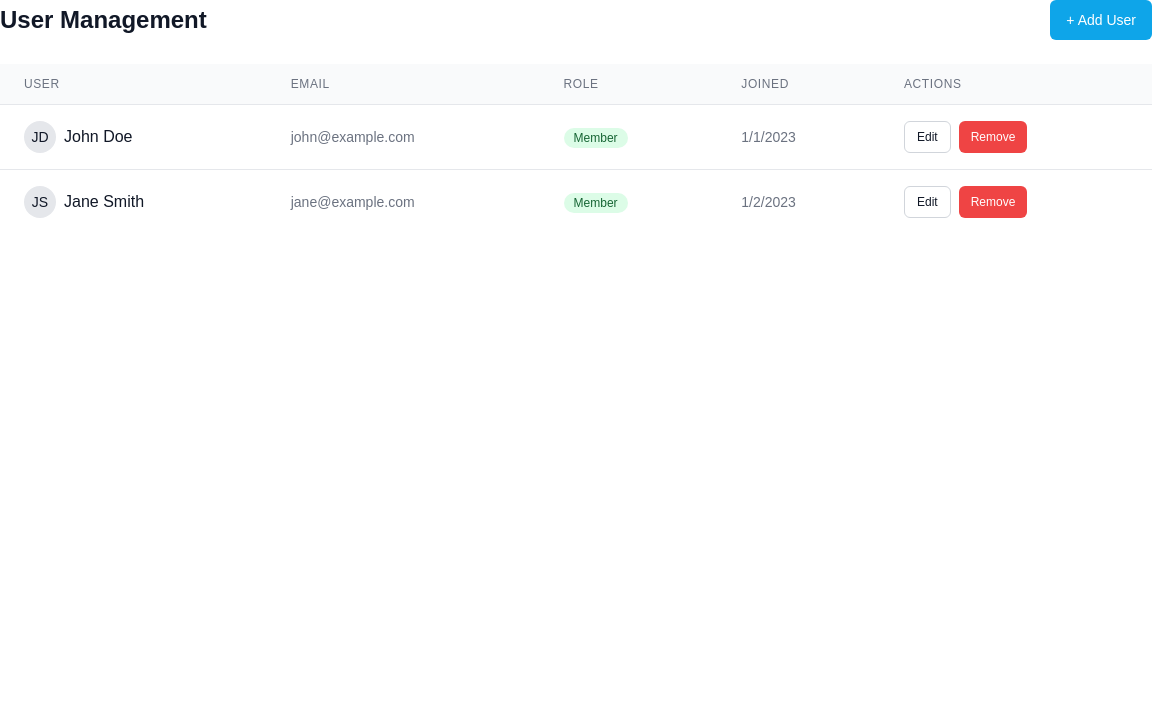
UserManagement Component › opens add user modal when add button is clicked
This screenshot has width=1152, height=720.
Note: Click the add user button
Click the button with test id "add-user-button": (1101, 20) [1050,0,1151,40]
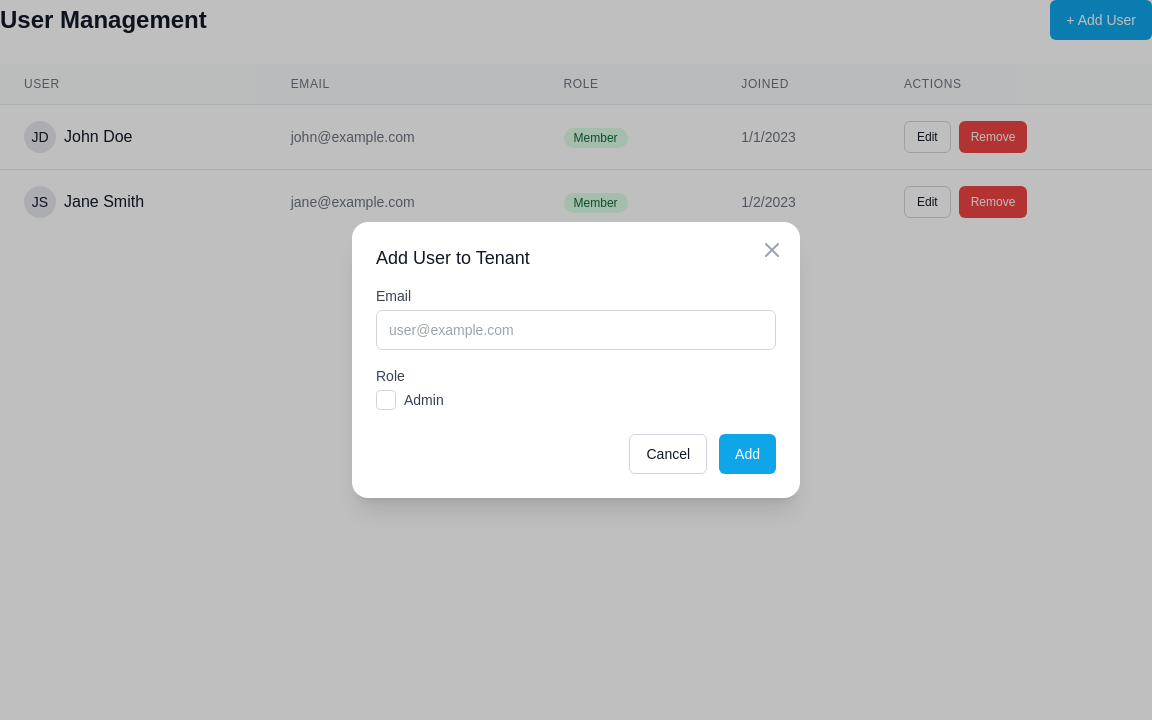
Expected: the heading "Add User to Tenant" is shown, [376,248,530,268]
Expected: the field with test id "email-input" is shown, [376,310,776,350]
Expected: the checkbox with test id "admin-checkbox" is shown, [404,390,444,410]
